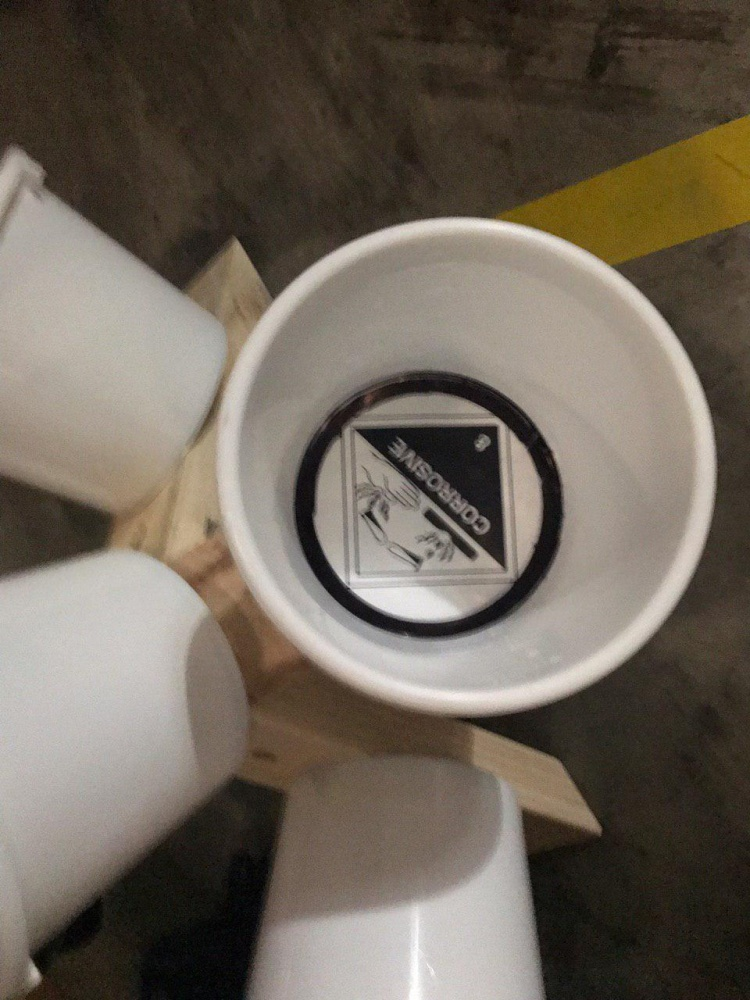Corrosive: (342, 418, 517, 588)
